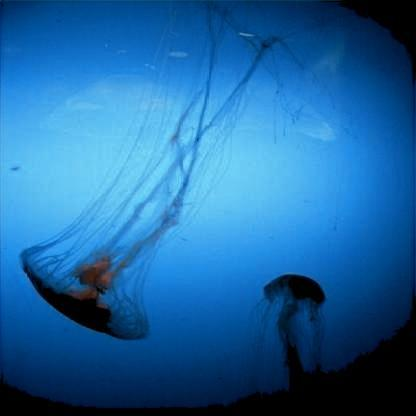Moon: (17, 40, 279, 341), (263, 277, 327, 407)
